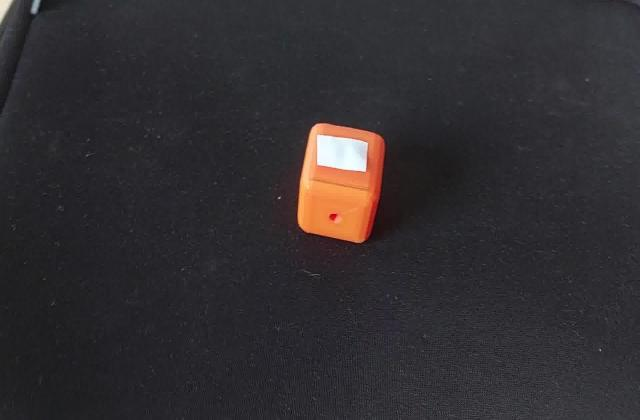sticker: (294, 120, 390, 248)
white: (315, 136, 373, 175)
